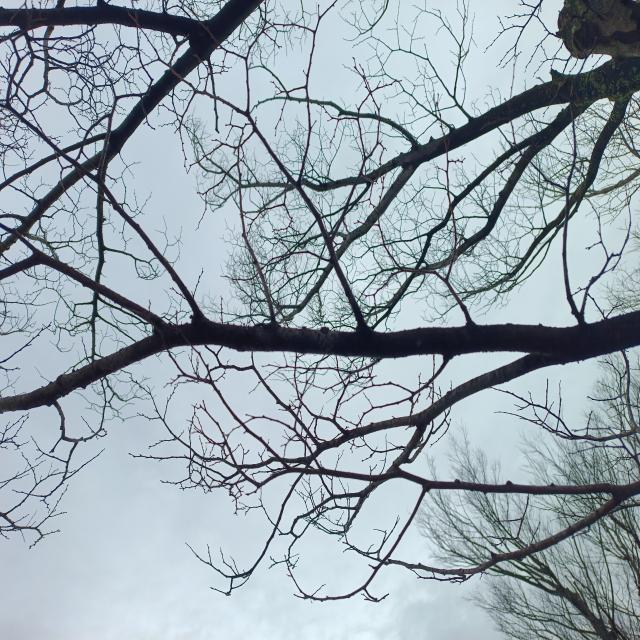Branch: (0, 310, 640, 413), (102, 0, 261, 168), (399, 57, 640, 165), (0, 2, 210, 37)
Twig: (378, 480, 640, 578), (64, 153, 206, 319), (0, 223, 168, 330), (410, 353, 569, 427), (1, 156, 99, 252), (239, 416, 409, 469), (400, 470, 640, 498), (331, 429, 426, 499), (346, 165, 416, 242), (300, 158, 400, 192), (90, 167, 106, 357), (244, 178, 298, 190)
